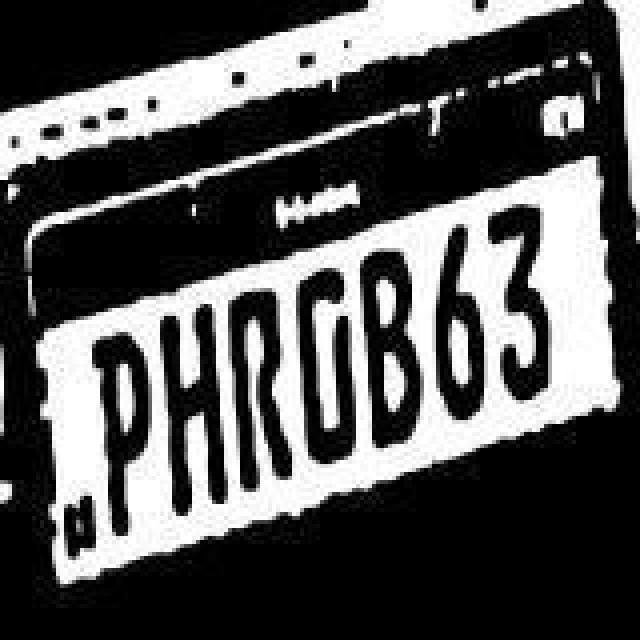3: (488, 196, 552, 412)
6: (432, 222, 488, 426)
B: (360, 232, 424, 456)
D: (296, 262, 360, 474)
H: (156, 300, 228, 532)
P: (88, 328, 152, 552)
R: (226, 274, 294, 510)
